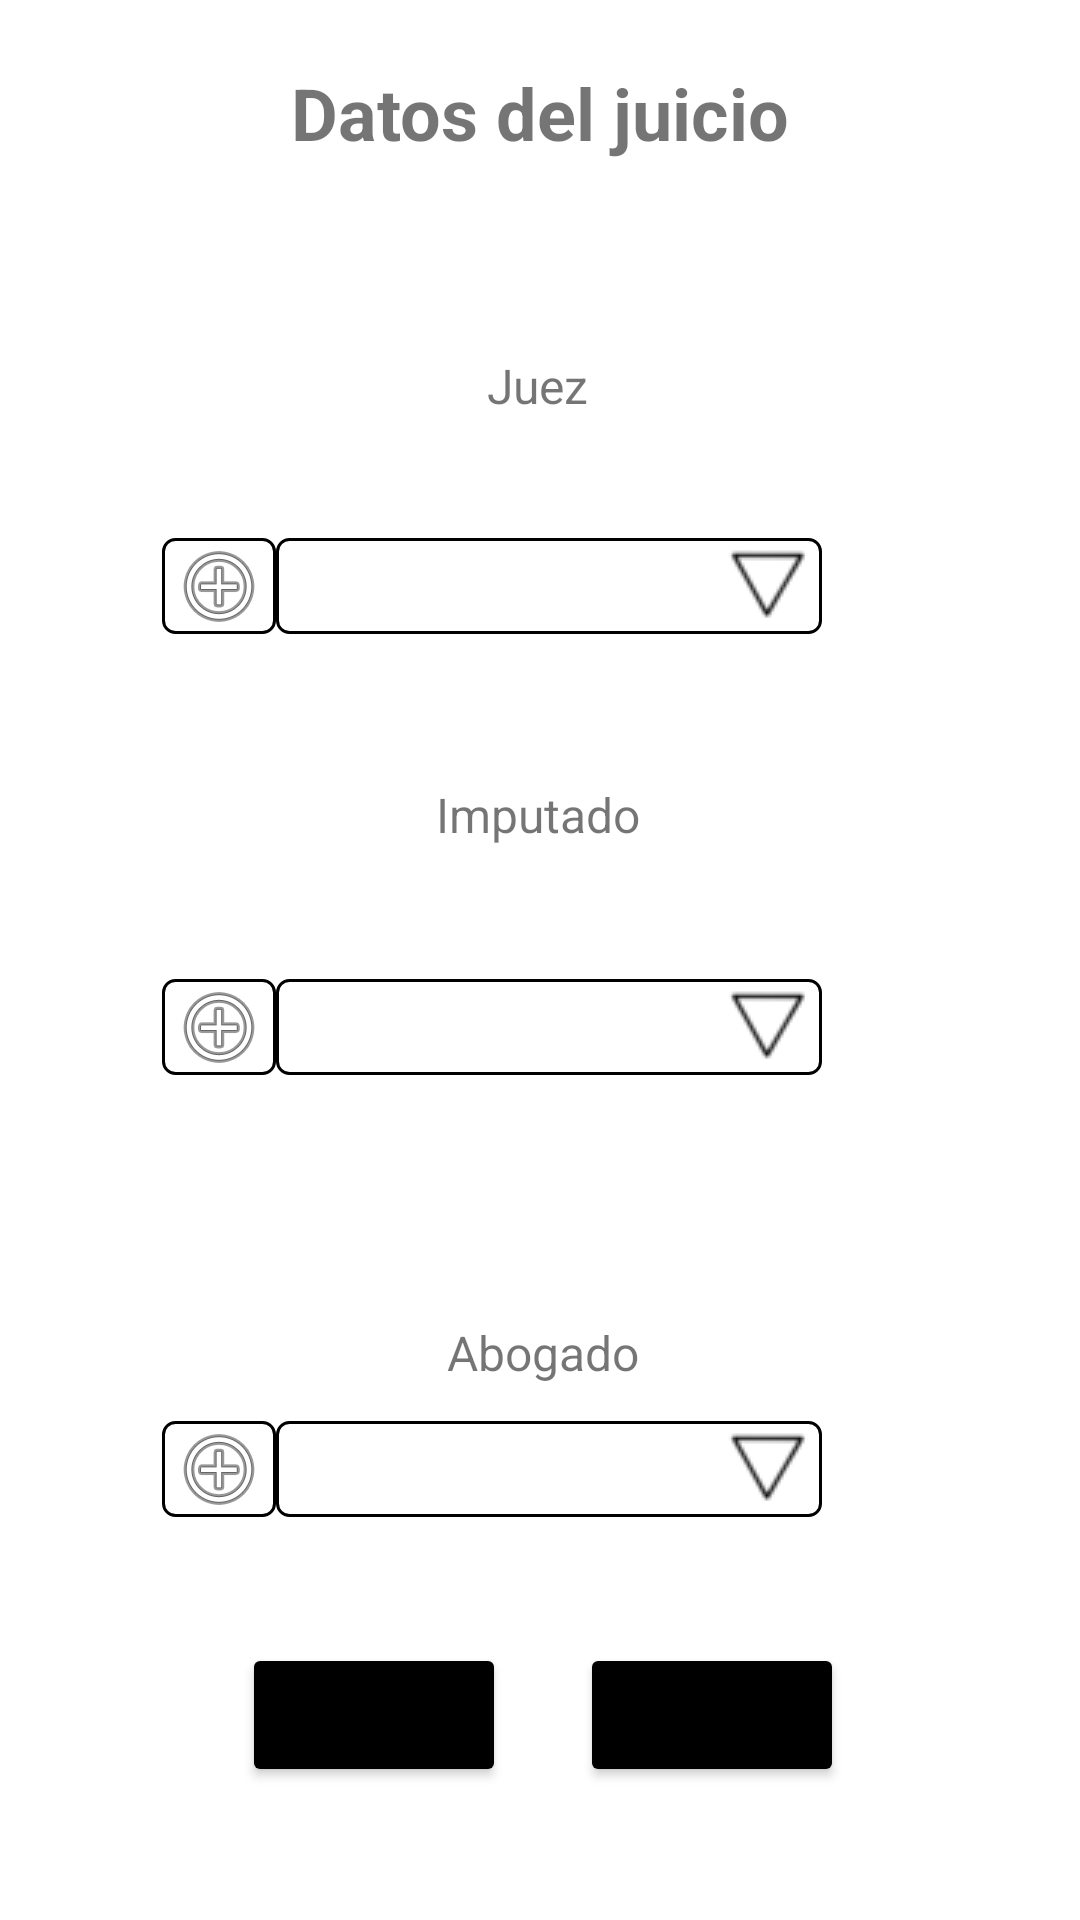

Screen size 1080×1920. Icon name, then its center in pixels as point (x, y):
add: point (219, 586), point (219, 1027), point (219, 1469)
